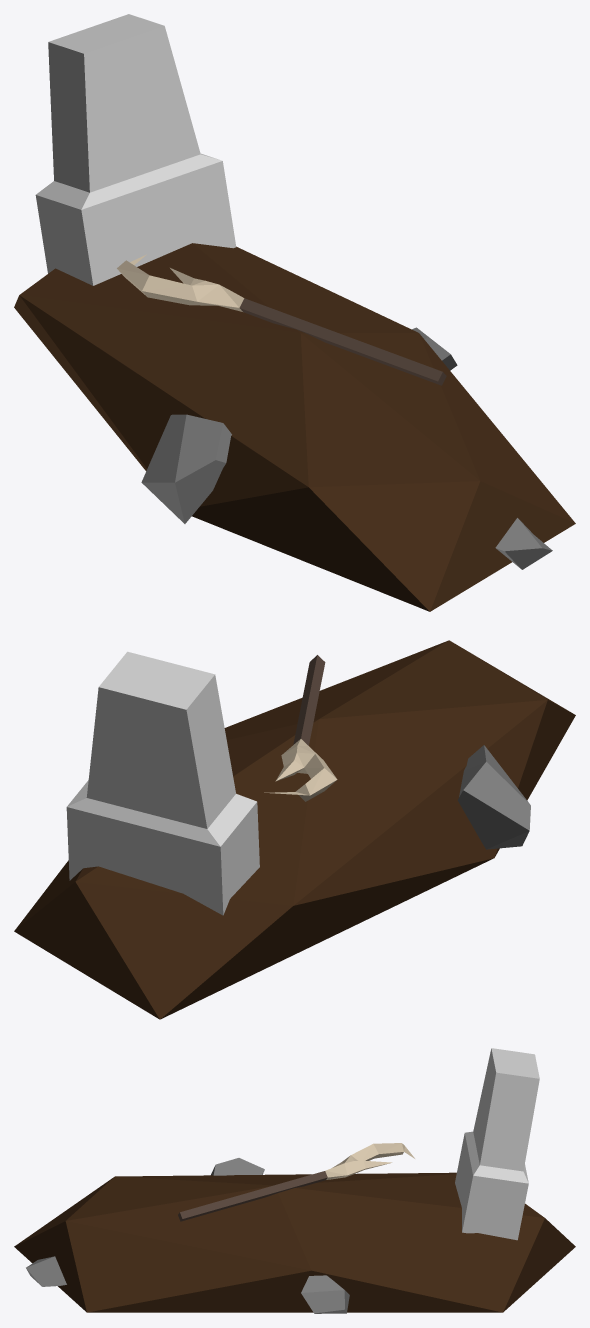
File: grave.fbx
3 views of the same model, one above another, from view 1: azimuth 30°, elevation 25°; view 2: azimuth 150°, elevation 25°; view 3: azimuth 270°, elevation 25° (orthographic). The views are drawn at different scales.
Visible parts, largest first — view 1: Gravesite, Gravekeppi; view 2: Gravesite, Gravekeppi; view 3: Gravesite, Gravekeppi.
Boxes of the visible parts, box(x1,y1,x2,y2) form: Gravesite: box(14, 14, 575, 611); Gravekeppi: box(117, 254, 446, 385); Gravesite: box(14, 640, 575, 1019); Gravekeppi: box(264, 655, 337, 801); Gravesite: box(14, 1048, 575, 1313); Gravekeppi: box(178, 1143, 414, 1221).
Bounding box in the file's own units: 156 × 122 × 304.
